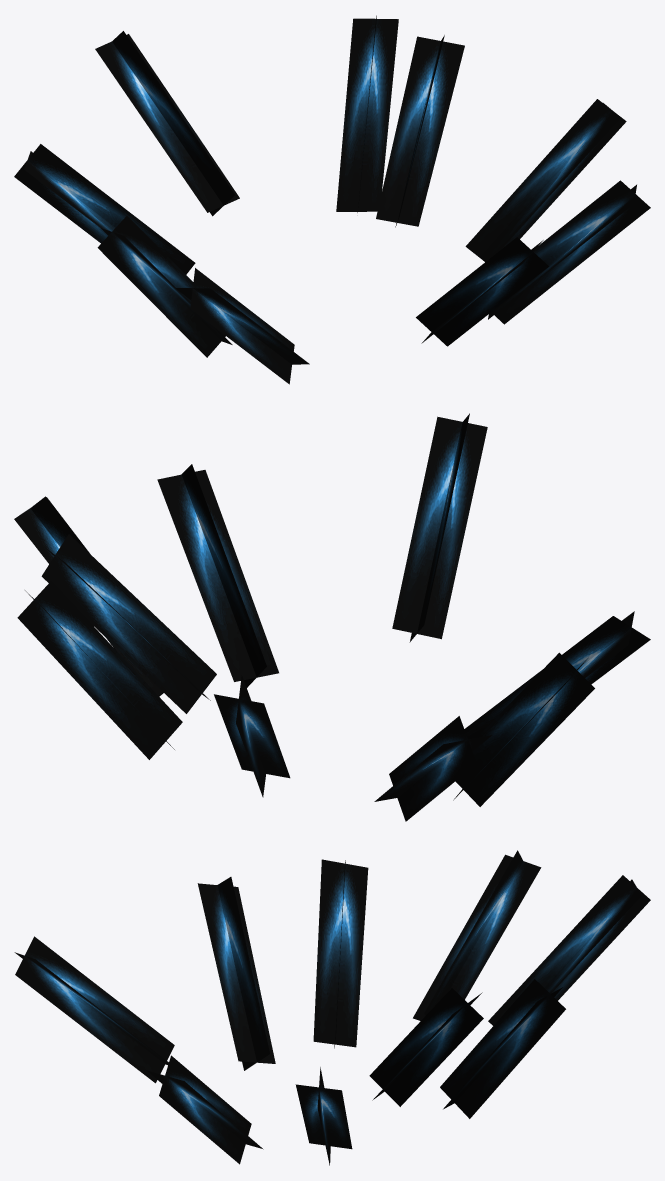
The model's file is skill_9_sword_glow_meshB.fbx.
The picture shows the model from 3 angles, top to bottom: view 1: azimuth 30°, elevation 25°; view 2: azimuth 150°, elevation 25°; view 3: azimuth 270°, elevation 25°; orthographic projection. The views are drawn at different scales.
Parts seen in each view (by area): view 1: polySurface4; view 2: polySurface4; view 3: polySurface4.
Part boxes in pixels (<box>): polySurface4: <box>14,15,650,384</box>; polySurface4: <box>14,413,650,821</box>; polySurface4: <box>14,850,650,1165</box>.
Bounding box in the file's own units: 527 × 205 × 566.
